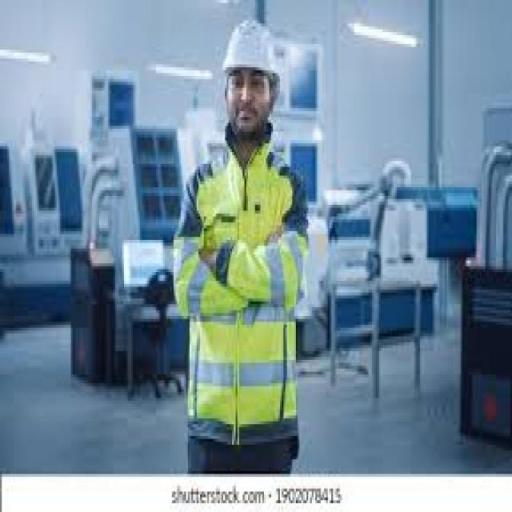helmet: (220, 12, 286, 85)
vest: (176, 140, 308, 451)
